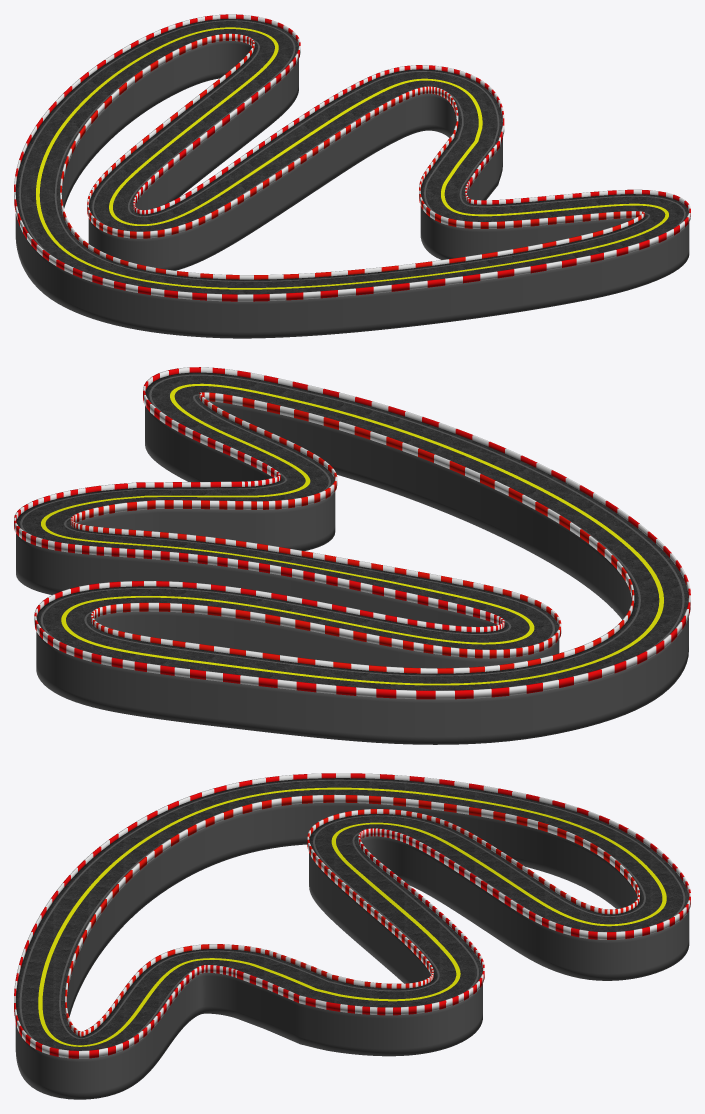
The model's file is june track 2.fbx.
The picture shows the model from 3 angles, top to bottom: view 1: azimuth 30°, elevation 25°; view 2: azimuth 150°, elevation 25°; view 3: azimuth 270°, elevation 25°; orthographic projection. The views are drawn at different scales.
Parts seen in each view (by area): view 1: NurbsCurve, NurbsCurve.004, NurbsCurve.006; view 2: NurbsCurve, NurbsCurve.004, NurbsCurve.006; view 3: NurbsCurve, NurbsCurve.004, NurbsCurve.006.
Boxes of the visible parts, x1,y1,x2,y2 form: NurbsCurve: (15,18,689,338); NurbsCurve.004: (14,14,690,301); NurbsCurve.006: (60,33,644,279); NurbsCurve: (16,372,688,744); NurbsCurve.004: (14,367,690,699); NurbsCurve.006: (70,392,634,673); NurbsCurve: (15,778,689,1099); NurbsCurve.004: (14,773,690,1058); NurbsCurve.006: (65,794,639,1036).
Size of the model in its own units: 3831 by 581 by 3847.
